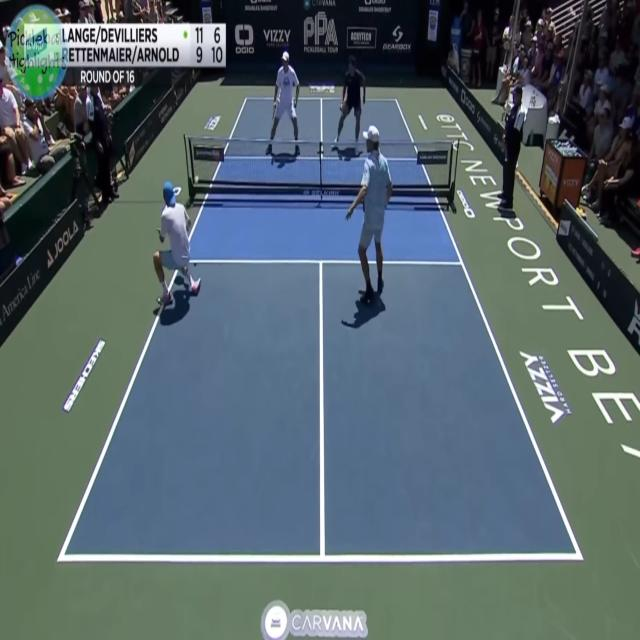ball: (192, 173, 201, 187)
